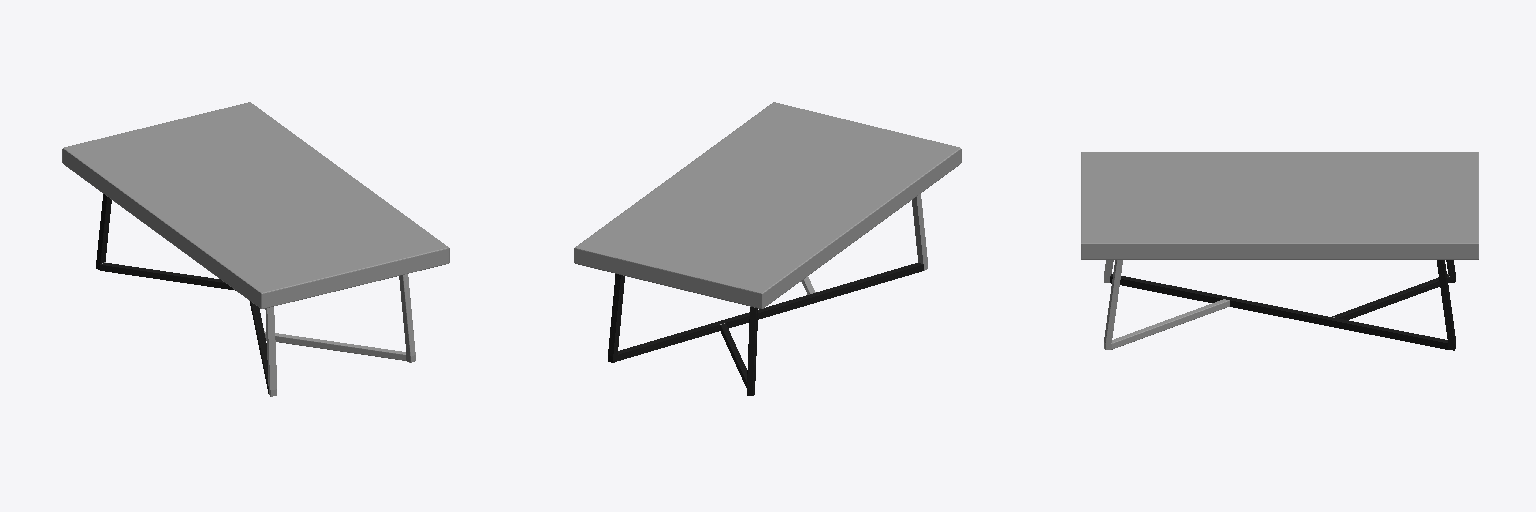
Rendered from table.obj.
3 renders of one model, left to right at view 1: azimuth 30°, elevation 25°; view 2: azimuth 150°, elevation 25°; view 3: azimuth 270°, elevation 25°, orthographic.
Visible parts, largest first — view 1: CoffeeTableN08; view 2: CoffeeTableN08; view 3: CoffeeTableN08.
Boxes of the visible parts, x1=… form: CoffeeTableN08: x1=62, y1=102, x2=449, y2=396; CoffeeTableN08: x1=574, y1=102, x2=961, y2=395; CoffeeTableN08: x1=1081, y1=152, x2=1478, y2=350.
Size of the model in its own units: 2.03 by 1.22 by 3.72.